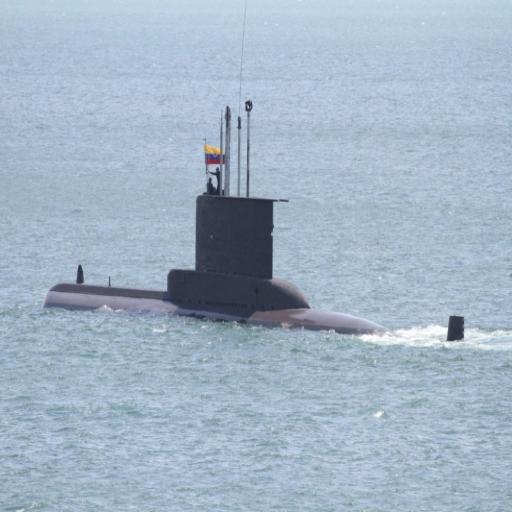submarine: (43, 99, 468, 337)
